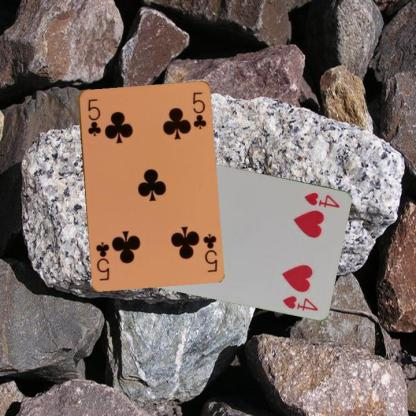4h: (301, 190, 342, 209)
5c: (200, 231, 218, 273), (85, 96, 102, 137)
